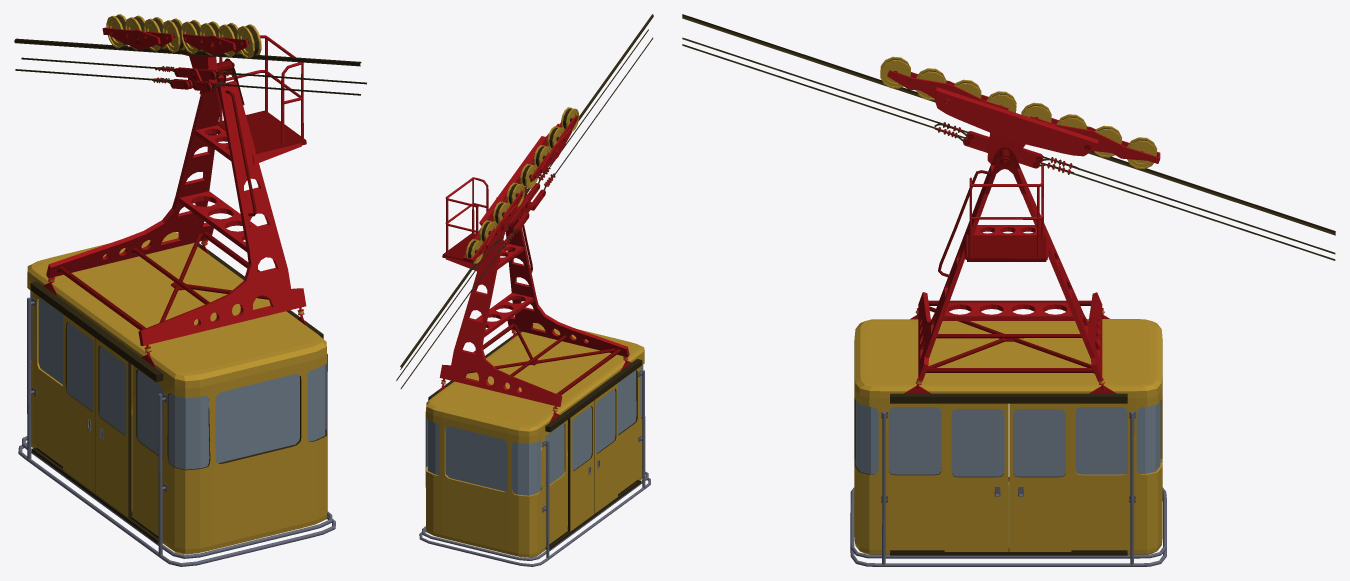
The model's file is Cable car (clear).fbx.
The picture shows the model from 3 angles, left to right: view 1: azimuth 30°, elevation 25°; view 2: azimuth 150°, elevation 25°; view 3: azimuth 270°, elevation 25°; orthographic projection. The views are drawn at different scales.
Visible parts, largest first — view 1: Cabin, Windows, Legs, Doors, Handle (outside), Wheels, Stand, Door holders, Head, Sticks, Rope base, Ropes (ins) (+2 smaller); view 2: Cabin, Windows, Legs, Doors, Handle (outside), Head, Wheels, Door holders, Sticks, Stand, Ropes (ins), Insurance (+1 smaller); view 3: Cabin, Windows, Doors, Legs, Head, Handle (outside), Door holders, Wheels, Stand, Sticks, Ropes (ins), Rope base (+2 smaller).
Boxes of the visible parts, <box> form: Cabin: <box>27,232,326,554</box>; Windows: <box>30,291,325,469</box>; Legs: <box>46,75,306,345</box>; Doors: <box>63,314,131,517</box>; Handle (outside): <box>18,297,335,566</box>; Wheels: <box>106,14,261,58</box>; Stand: <box>218,35,306,164</box>; Door holders: <box>30,243,323,543</box>; Head: <box>102,27,248,92</box>; Sticks: <box>57,232,268,330</box>; Rope base: <box>14,38,361,66</box>; Ropes (ins): <box>15,57,366,95</box>; Cabin: <box>426,323,644,557</box>; Windows: <box>428,365,643,495</box>; Legs: <box>439,217,629,406</box>; Doors: <box>568,383,617,531</box>; Handle (outside): <box>419,370,650,566</box>; Head: <box>463,115,577,263</box>; Wheels: <box>466,107,579,263</box>; Door holders: <box>428,331,642,549</box>; Sticks: <box>467,323,620,395</box>; Stand: <box>442,177,504,272</box>; Ropes (ins): <box>396,29,653,388</box>; Insurance: <box>498,169,555,247</box>; Cabin: <box>854,319,1162,554</box>; Windows: <box>856,400,1160,476</box>; Doors: <box>944,403,1071,551</box>; Legs: <box>918,165,1102,380</box>; Head: <box>887,70,1160,163</box>; Handle (outside): <box>850,412,1166,566</box>; Door holders: <box>890,393,1127,555</box>; Wheels: <box>880,56,1157,169</box>; Stand: <box>963,163,1049,261</box>; Sticks: <box>926,300,1094,373</box>; Ropes (ins): <box>682,37,1335,260</box>; Rope base: <box>682,14,1335,235</box>.
Size of the model in its own units: 558 by 1528 by 1739.
